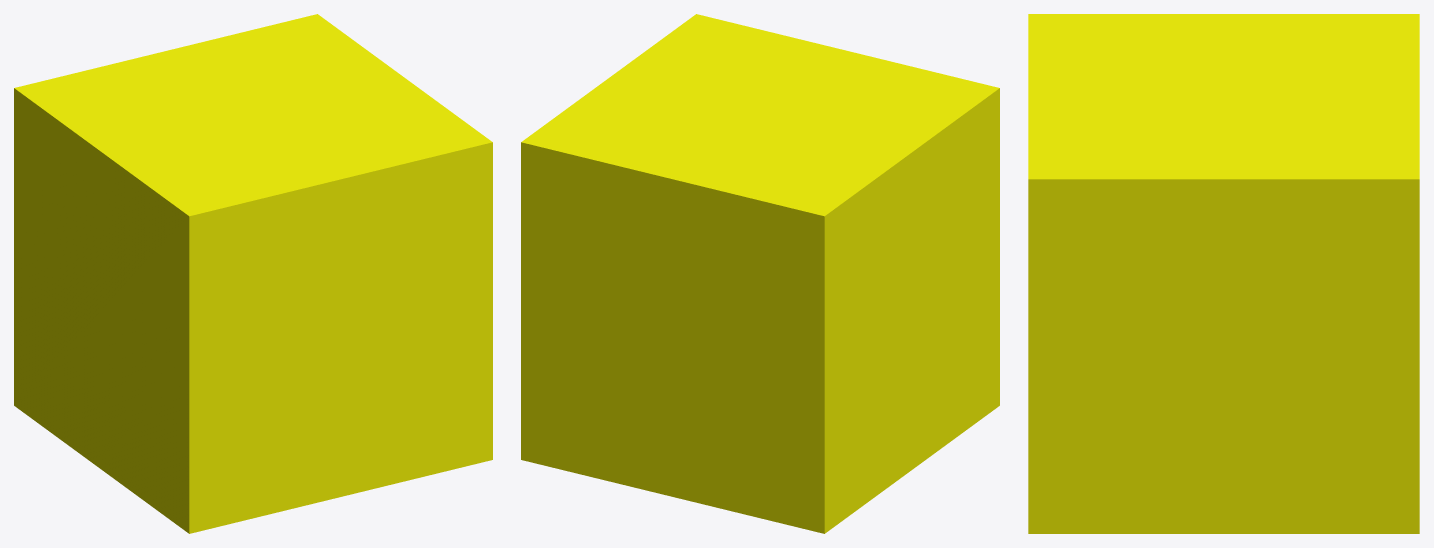
File: lux_splitter.obj
3 views of the same model, side by side, from view 1: azimuth 30°, elevation 25°; view 2: azimuth 150°, elevation 25°; view 3: azimuth 270°, elevation 25° (orthographic). The views are drawn at different scales.
Bounding box in the file's own units: 0.75 × 0.75 × 0.75.
